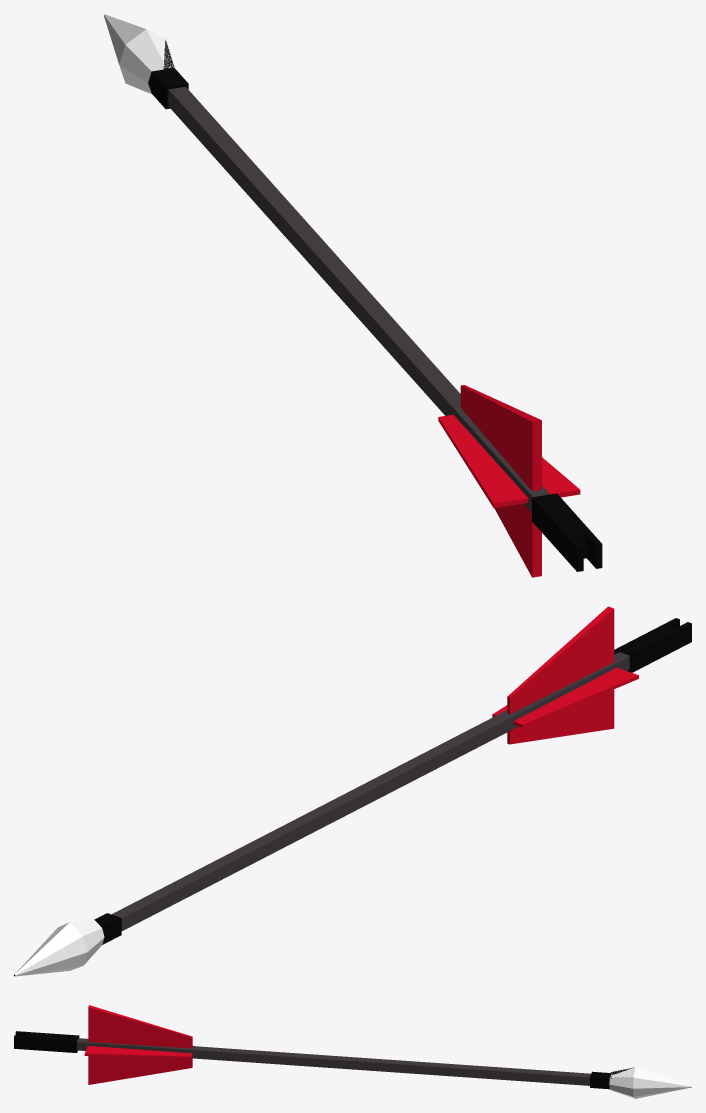
The model's file is arrow.fbx.
3 views of the same model, one above another, from view 1: azimuth 30°, elevation 25°; view 2: azimuth 150°, elevation 25°; view 3: azimuth 270°, elevation 25° (orthographic). The views are drawn at different scales.
Visible parts, largest first — view 1: arrow; view 2: arrow; view 3: arrow.
Boxes of the visible parts, <box> form: arrow: <box>104,14,602,577</box>; arrow: <box>14,606,691,976</box>; arrow: <box>14,1005,691,1098</box>.
Bounding box in the file's own units: 1.5 × 1.02 × 8.05.
